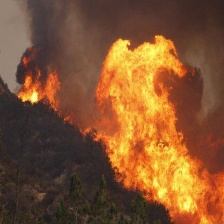fire: (84, 37, 223, 224), (15, 61, 63, 117)
smoke: (31, 1, 97, 124), (176, 3, 223, 170)
